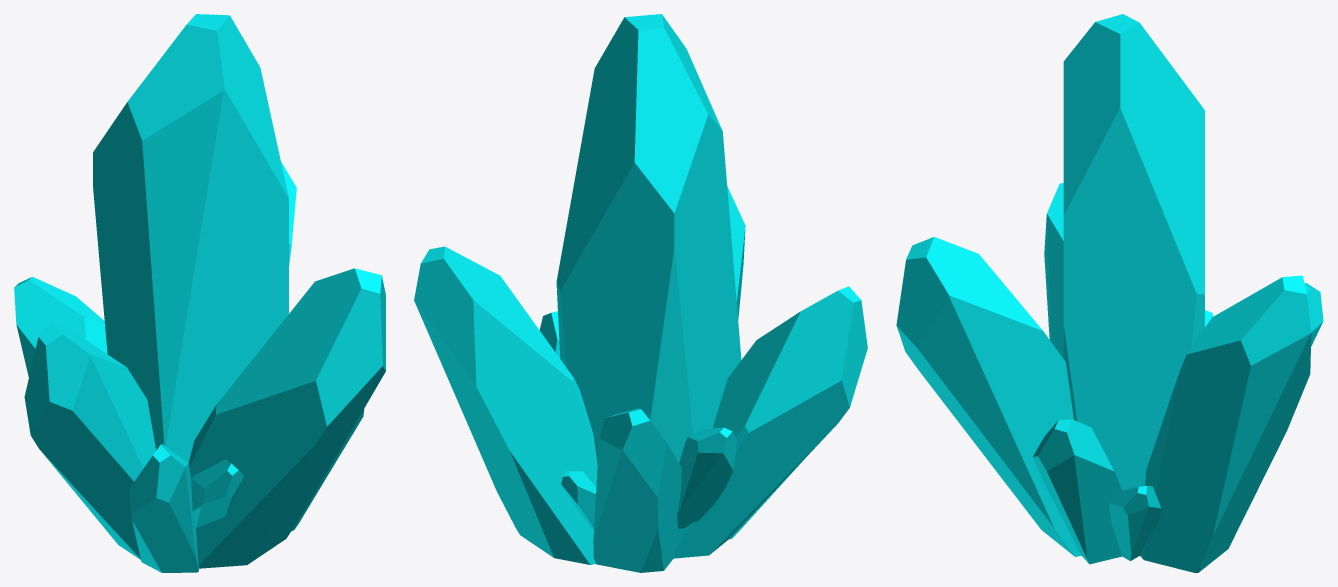
The model's file is crystals.fbx.
The picture shows the model from 3 angles, left to right: view 1: azimuth 30°, elevation 25°; view 2: azimuth 150°, elevation 25°; view 3: azimuth 270°, elevation 25°; orthographic projection.
Visible parts, largest first — view 1: Cube.010; view 2: Cube.010; view 3: Cube.010.
Part boxes in pixels (x1,y1,x2,y2): Cube.010: (14, 14, 385, 572); Cube.010: (414, 14, 867, 572); Cube.010: (896, 14, 1323, 572).
Size of the model in its own units: 554 by 791 by 604.
